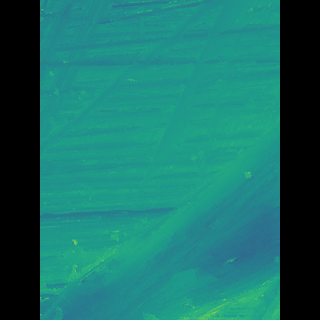Loch: (70, 114, 252, 320), (69, 0, 210, 156)
